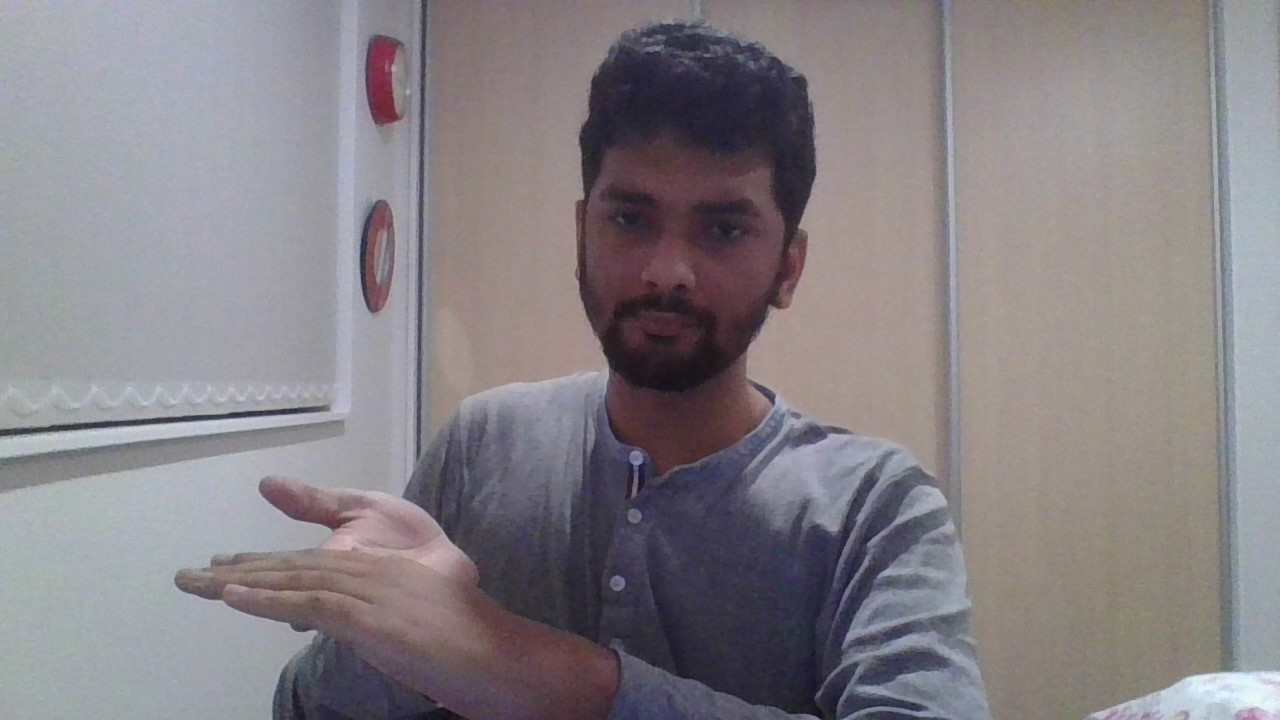clear: (174, 476, 614, 720)
